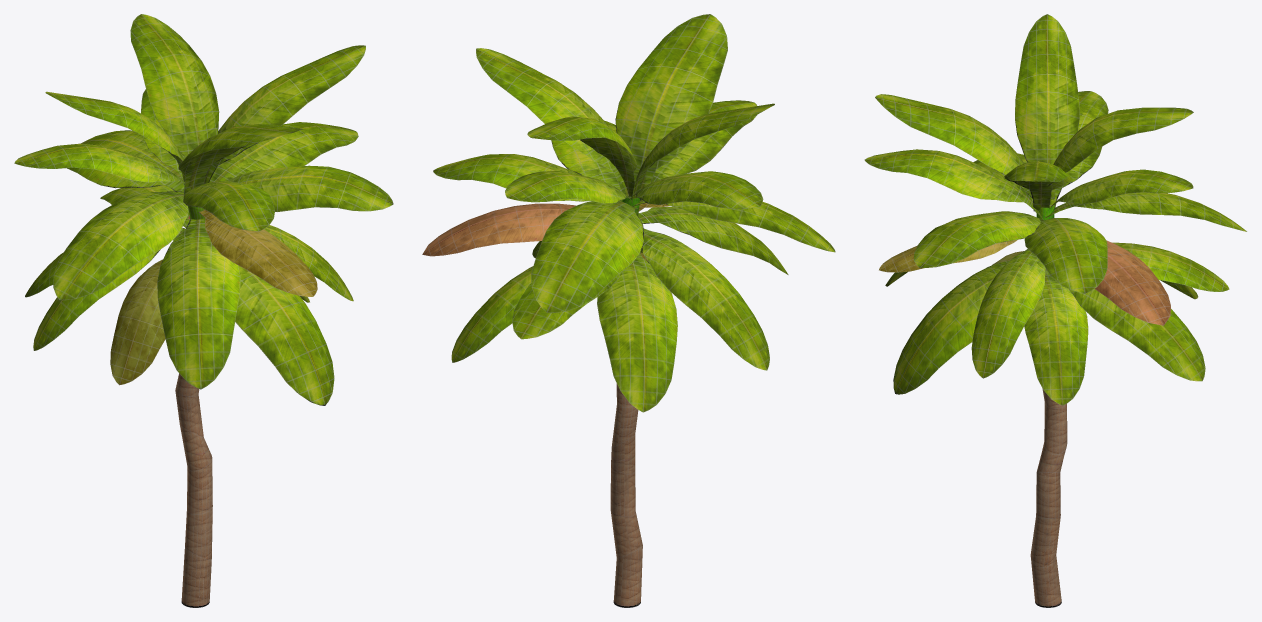
Rendered from Palm_tree.fbx.
3 renders of one model, left to right at view 1: azimuth 30°, elevation 25°; view 2: azimuth 150°, elevation 25°; view 3: azimuth 270°, elevation 25°, orthographic. The views are drawn at different scales.
Parts seen in each view (by area): view 1: Palm_leaf_11, Palm_leaf_14, Palm_leaf_21, Palm_leaf_7, Palm_trunk, Palm_leaf_3, Palm_leaf_20, Palm_leaf_5, Palm_leaf_6, Palm_leaf_15, Palm_leaf_16, Palm_leaf_18 (+8 smaller); view 2: Palm_leaf_19, Palm_leaf_1, Palm_leaf_10, Palm_leaf_13, Palm_trunk, Palm_leaf_20, Palm_leaf_9, Palm_leaf_16, Palm_leaf_11, Palm_leaf_17, Palm_leaf_21, Palm_leaf_8 (+6 smaller); view 3: Palm_leaf_4, Palm_leaf_22, Palm_leaf_7, Palm_leaf_12, Palm_trunk, Palm_leaf_8, Palm_leaf_15, Palm_leaf_19, Palm_leaf_18, Palm_leaf_3, Palm_leaf_9, Palm_leaf_21 (+6 smaller).
Boxes of the visible parts, box(x1,y1,x2,y2) form: Palm_leaf_11: box(157, 218, 240, 389); Palm_leaf_14: box(53, 191, 188, 300); Palm_leaf_21: box(130, 14, 219, 157); Palm_leaf_7: box(235, 265, 334, 405); Palm_trunk: box(175, 185, 212, 607); Palm_leaf_3: box(199, 165, 393, 211); Palm_leaf_20: box(204, 45, 365, 184); Palm_leaf_5: box(198, 210, 317, 296); Palm_leaf_6: box(110, 259, 165, 385); Palm_leaf_15: box(209, 122, 358, 182); Palm_leaf_16: box(14, 143, 190, 188); Palm_leaf_18: box(183, 181, 274, 231); Palm_leaf_19: box(615, 14, 727, 196); Palm_leaf_1: box(531, 200, 643, 312); Palm_leaf_10: box(597, 254, 677, 412); Palm_leaf_13: box(641, 228, 769, 370); Palm_trunk: box(610, 196, 642, 607); Palm_leaf_20: box(476, 48, 628, 195); Palm_leaf_9: box(422, 203, 575, 256); Palm_leaf_16: box(627, 171, 763, 208); Palm_leaf_11: box(638, 207, 788, 274); Palm_leaf_17: box(505, 171, 631, 203); Palm_leaf_21: box(527, 116, 636, 196); Palm_leaf_8: box(451, 266, 533, 362); Palm_leaf_4: box(1015, 14, 1079, 200); Palm_leaf_22: box(1024, 269, 1088, 405); Palm_leaf_7: box(893, 261, 1008, 394); Palm_leaf_12: box(971, 249, 1045, 378); Palm_trunk: box(1030, 204, 1067, 607); Palm_leaf_8: box(1069, 289, 1205, 381); Palm_leaf_15: box(1024, 218, 1107, 293); Palm_leaf_19: box(875, 94, 1023, 174); Palm_leaf_18: box(864, 149, 1043, 219); Palm_leaf_3: box(914, 211, 1043, 268); Palm_leaf_9: box(1094, 240, 1170, 325); Palm_leaf_21: box(1041, 107, 1193, 211).
Bounding box in the file's own units: 15.1 × 22.19 × 14.87.
Materials: 1 (1 with a texture image).
